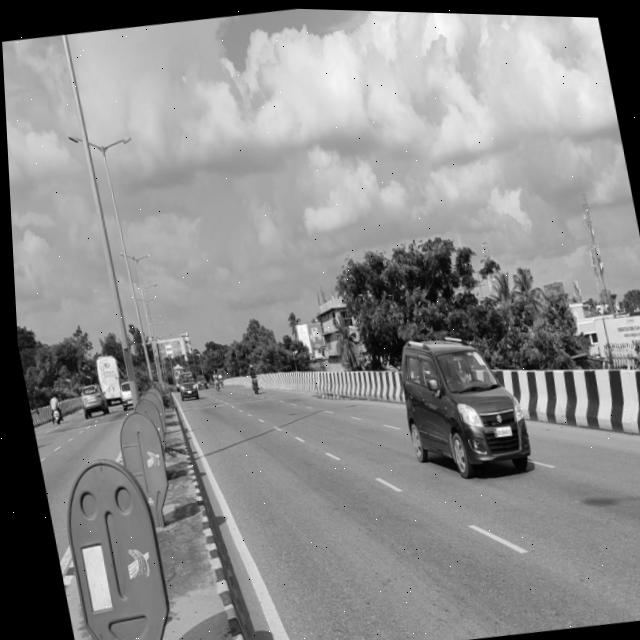car: (383, 311, 532, 496)
